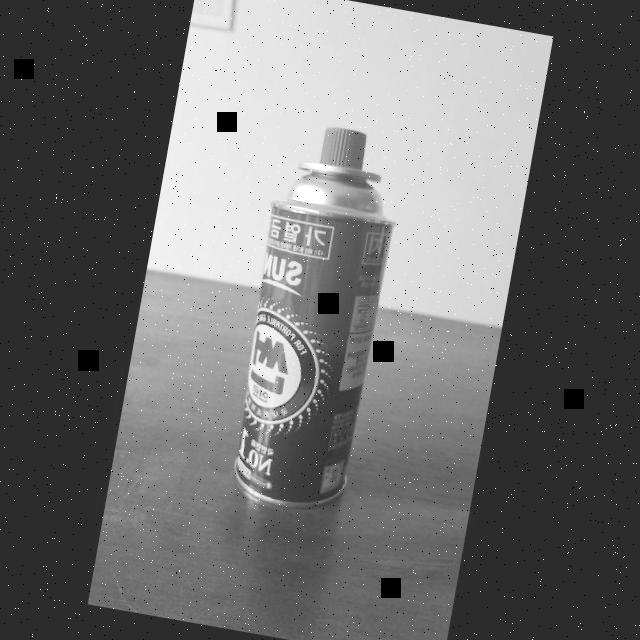chemical_spray_can: (184, 103, 423, 535)
